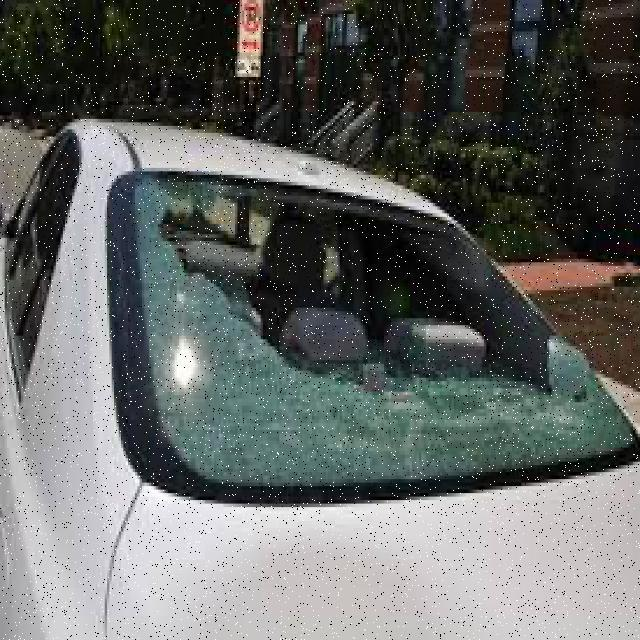Rear-windscreen-Damage: (84, 157, 582, 538)
